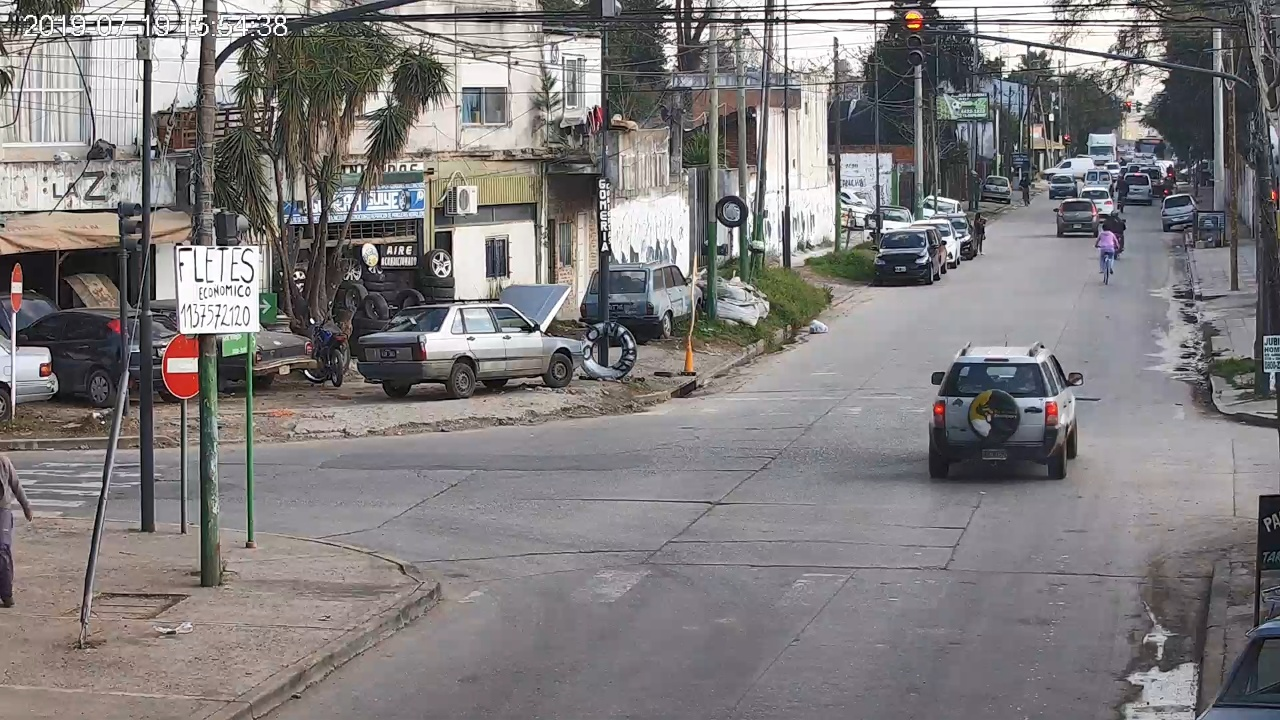car: (929, 343, 1083, 478)
traffic light: (905, 11, 923, 65)
